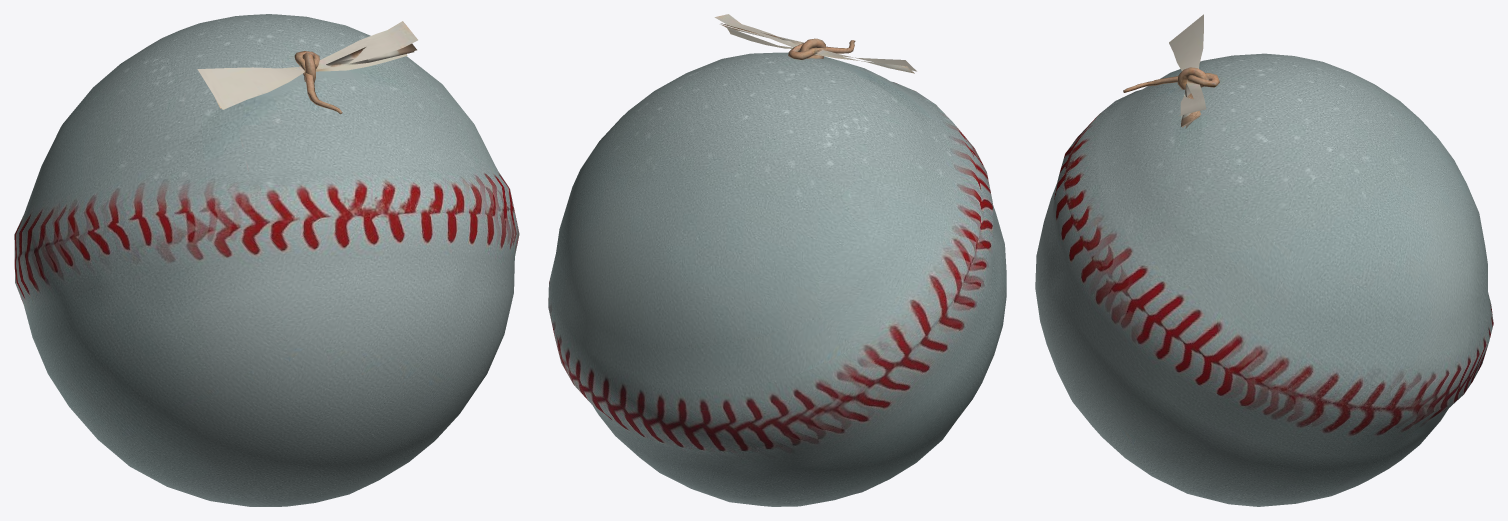
The model's file is sty_baseball_coated.glb.
The picture shows the model from 3 angles, left to right: view 1: azimuth 30°, elevation 25°; view 2: azimuth 150°, elevation 25°; view 3: azimuth 270°, elevation 25°; orthographic projection. The views are drawn at different scales.
Size of the model in its own units: 0.9355 by 0.9517 by 0.9307.
Materials: 1 (1 with a texture image).
